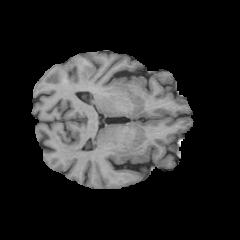glioma: (63, 53, 96, 82)
